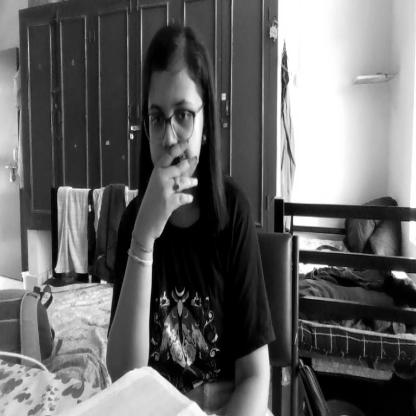Normal: (144, 24, 209, 196)
